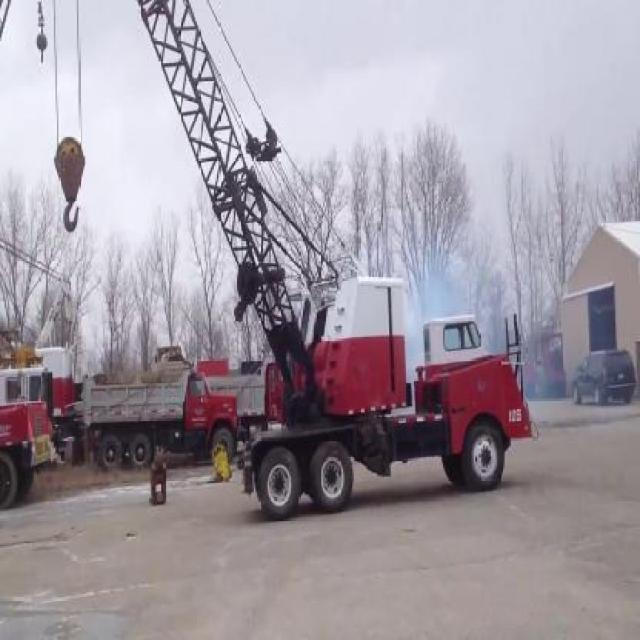Mobile Crane: (137, 0, 531, 515)
